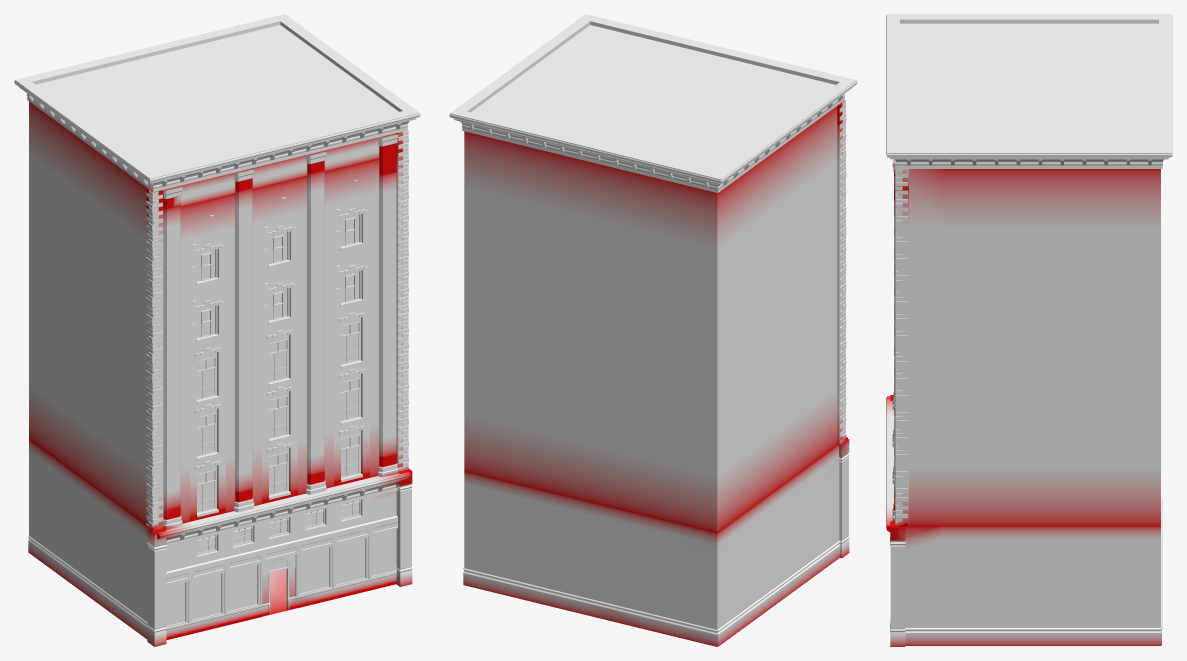
Rendered from Building_Medium_2.gltf.
3 renders of one model, left to right at view 1: azimuth 30°, elevation 25°; view 2: azimuth 150°, elevation 25°; view 3: azimuth 270°, elevation 25°, orthographic. The views are drawn at different scales.
Parts seen in each view (by area): view 1: Building_Medium_2; view 2: Building_Medium_2; view 3: Building_Medium_2.
Boxes of the visible parts, x1,y1,x2,y2 form: Building_Medium_2: (14,14,420,646); Building_Medium_2: (449,14,857,646); Building_Medium_2: (886,14,1172,646).
Bounding box in the file's own units: 15.06 × 25.01 × 13.06.
